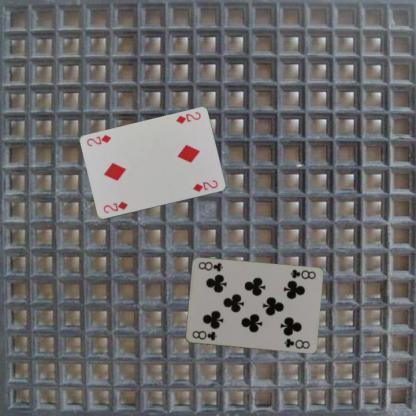2d: (173, 110, 202, 126), (100, 200, 129, 214)
8c: (189, 328, 218, 342), (288, 267, 316, 281)
